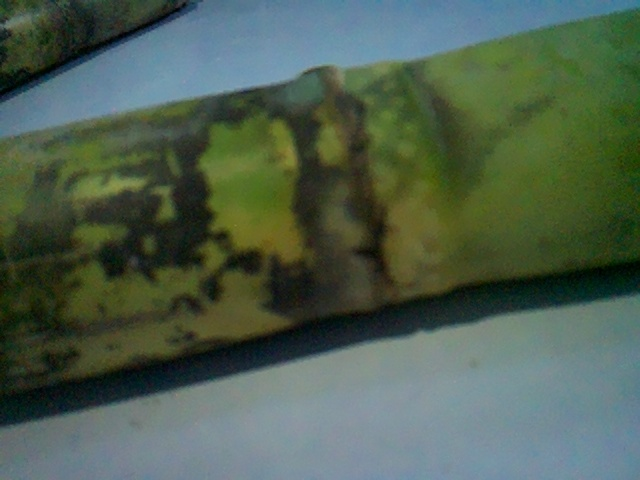Good Sugarcane: (4, 10, 640, 403), (2, 0, 199, 97)
Node: (273, 66, 475, 296)
